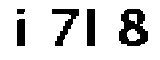7: (46, 5, 80, 50)
8: (112, 6, 150, 54)
i: (11, 4, 32, 51)
l: (85, 8, 100, 49)
